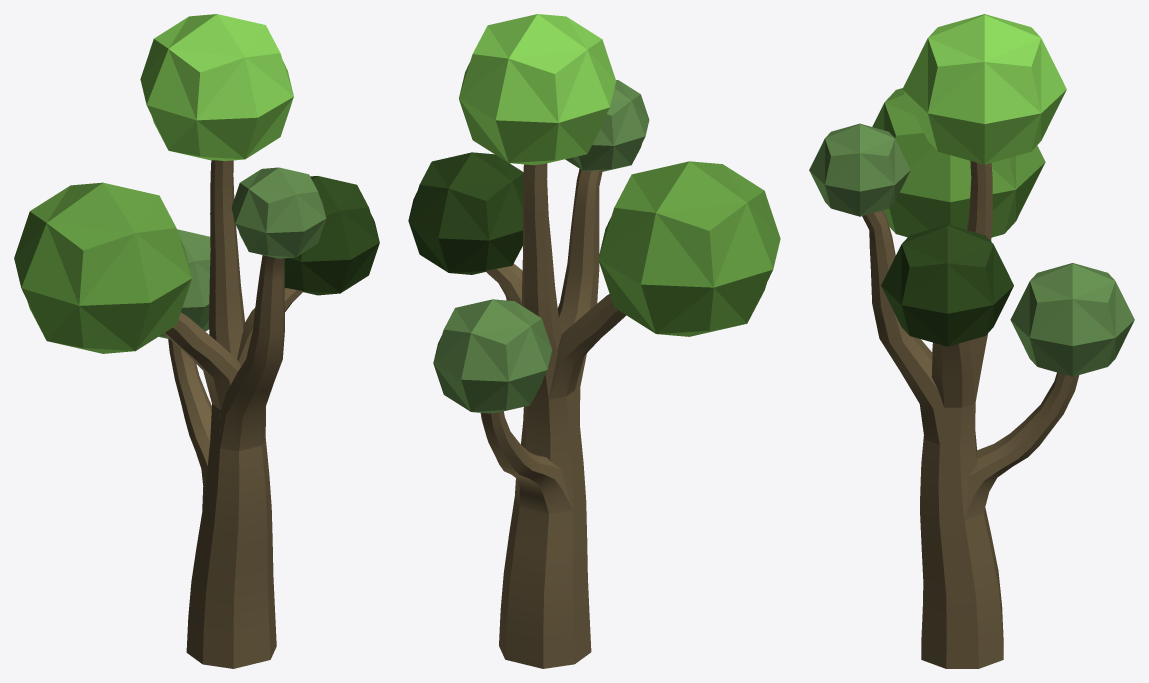
Rendered from Tree_3.fbx.
The picture shows the model from 3 angles, left to right: view 1: azimuth 30°, elevation 25°; view 2: azimuth 150°, elevation 25°; view 3: azimuth 270°, elevation 25°; orthographic projection. The views are drawn at different scales.
Visible parts, largest first — view 1: pCube61; view 2: pCube61; view 3: pCube61.
Boxes of the visible parts, bbox=[...] form: pCube61: bbox=[14, 14, 379, 668]; pCube61: bbox=[408, 14, 780, 668]; pCube61: bbox=[809, 14, 1134, 668].
Size of the model in its own units: 3.12 by 5.32 by 2.48.
